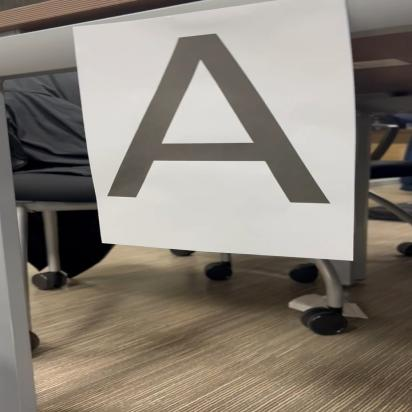seat: (92, 31, 351, 206)
